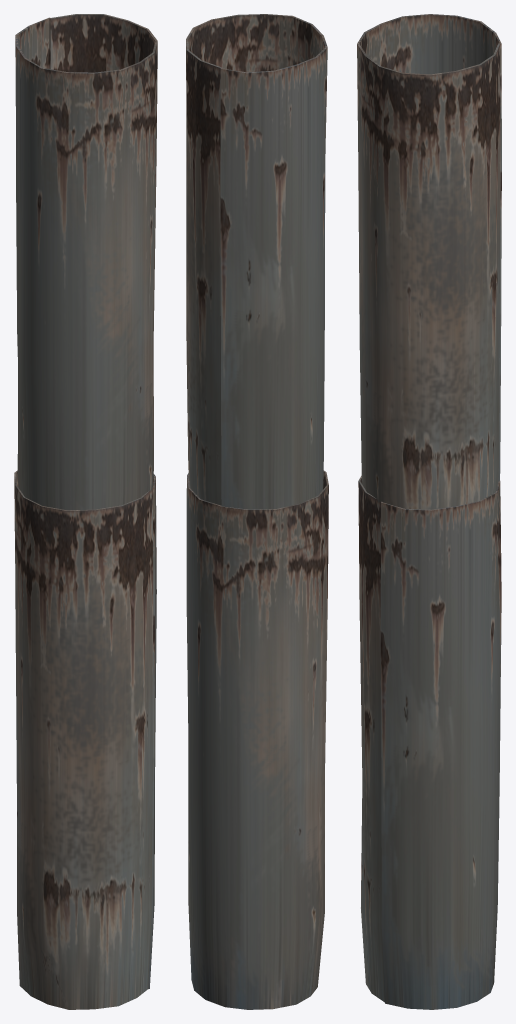
The model's file is !rustpipe_1.fbx.
The picture shows the model from 3 angles, left to right: view 1: azimuth 30°, elevation 25°; view 2: azimuth 150°, elevation 25°; view 3: azimuth 270°, elevation 25°; orthographic projection.
Parts seen in each view (by area): view 1: rustpipe_GEO1, rustpipe_GEO; view 2: rustpipe_GEO1, rustpipe_GEO; view 3: rustpipe_GEO1, rustpipe_GEO.
Boxes of the visible parts, left/top/right/bottom form: rustpipe_GEO1: left=14, top=470, right=156, bottom=1009; rustpipe_GEO: left=15, top=14, right=157, bottom=510; rustpipe_GEO1: left=186, top=470, right=328, bottom=1009; rustpipe_GEO: left=186, top=14, right=327, bottom=509; rustpipe_GEO1: left=358, top=475, right=501, bottom=1009; rustpipe_GEO: left=357, top=14, right=501, bottom=509.
Bounding box in the file's own units: 20.98 × 150 × 20.88.
